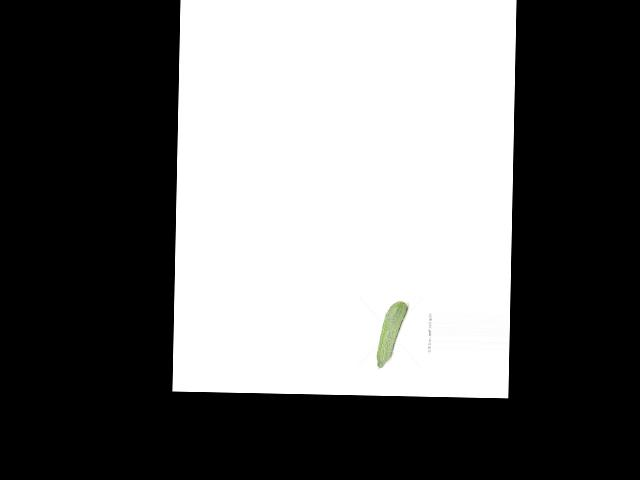cucumber: (376, 301, 407, 369)
